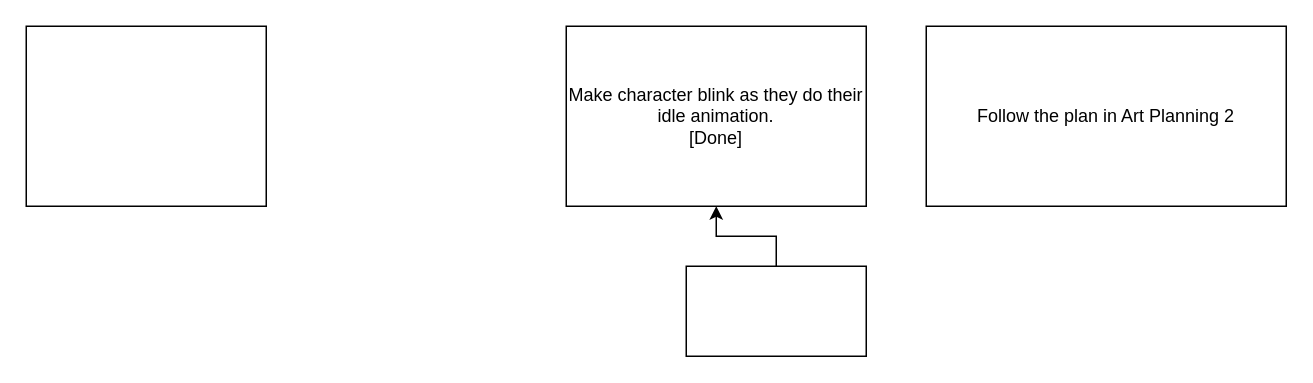
Some shapes in this 1313 by 383 pixel diagram are drawn without their labels. The box of each missing label's shape, as (x1, y1, x2, y2) in pixels:
Finish Sim style Action Select: (25, 25, 266, 206)
Look at the issues in (Plan) and fix them.: (685, 265, 866, 356)
